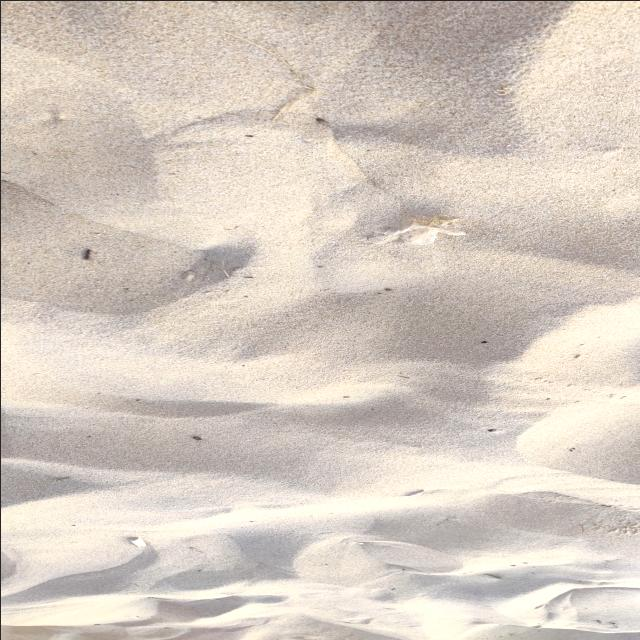Cigarette: (128, 536, 145, 546)
Plastic film: (383, 221, 465, 244)
